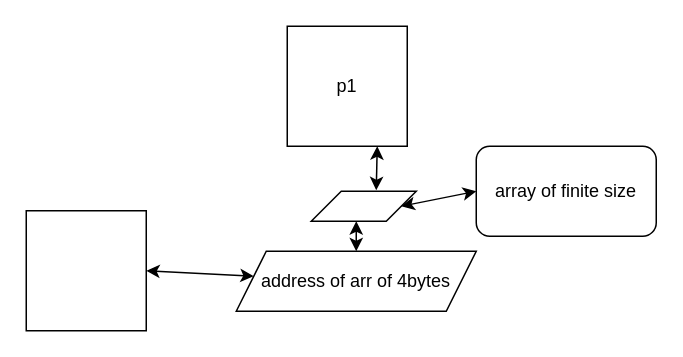
The diagram is 683 pixels wide and 357 high, and some of its shapes have lost their labels. The centre of each missing label's shape, as x and y in pixels:
"arr" belongs at pixel 363 205.
"p2 with block size of 4(datatype)" belongs at pixel 85 270.
